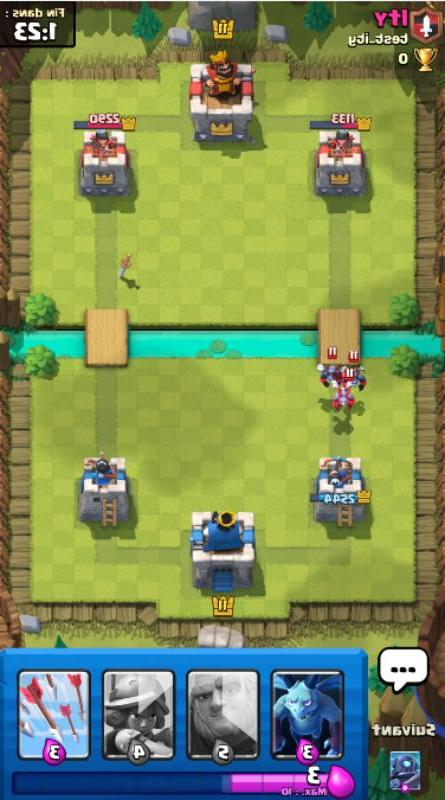gargouille: (315, 346, 345, 388), (341, 349, 367, 391), (330, 369, 355, 412)
